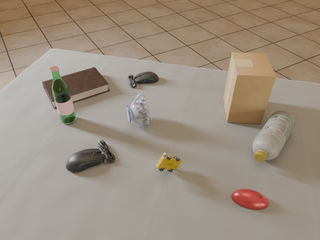book: (42, 67, 109, 108)
bottle: (252, 111, 296, 162), (50, 66, 76, 124)
box: (224, 52, 276, 124)
cup: (126, 93, 150, 125)
mouse: (66, 140, 115, 172), (232, 189, 268, 209), (128, 72, 159, 88)
toy_car: (156, 153, 182, 172)
